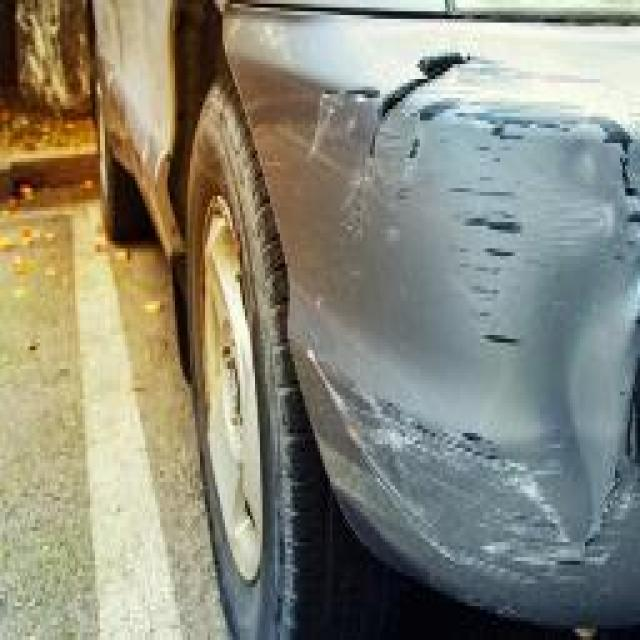Bumper: (225, 4, 640, 617)
